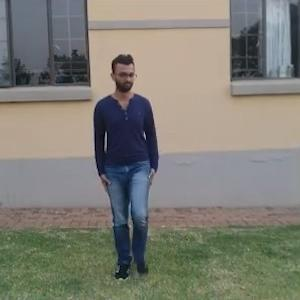follow: (87, 39, 162, 280)
